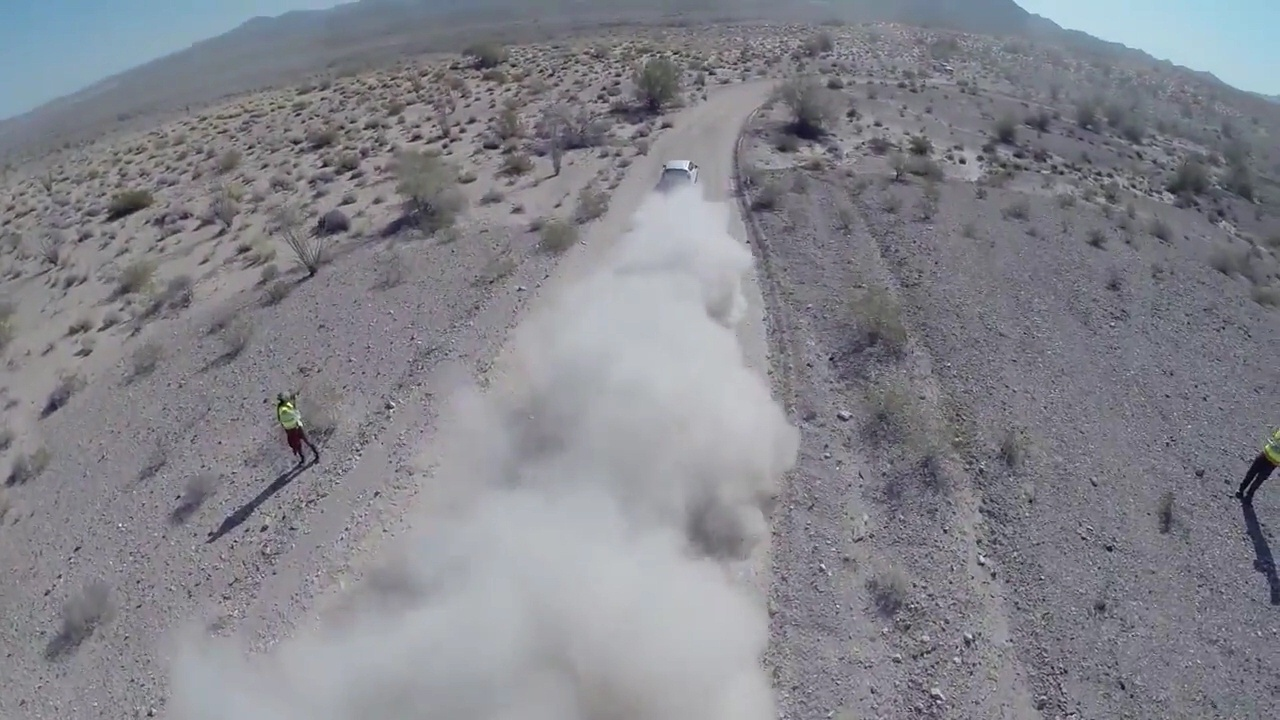araba: (659, 159, 700, 195)
insan: (268, 388, 326, 471)
